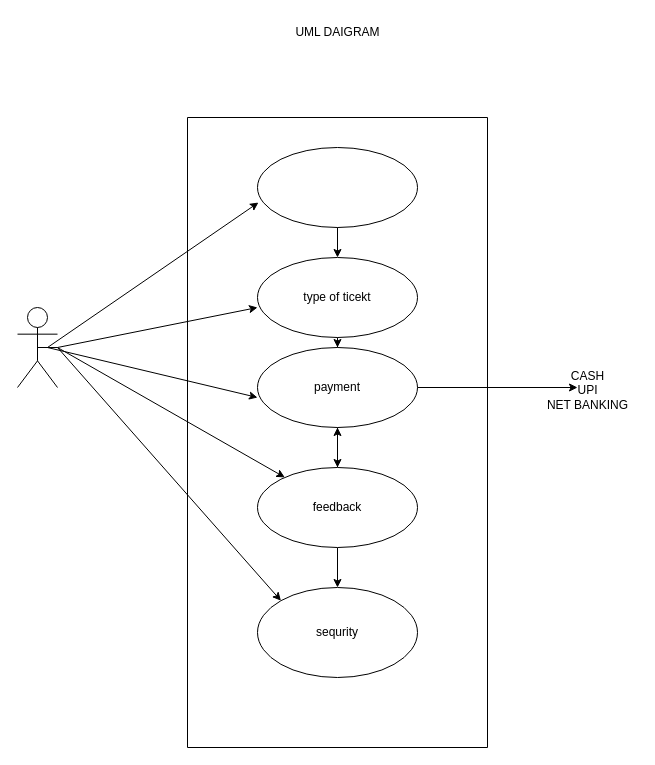
Image size: 655x765. Some labels were removed from this diagram. The centre of each missing label's shape, as x and y in pixels:
"Actor" goes at point (37, 347).
"login page" goes at point (337, 187).
